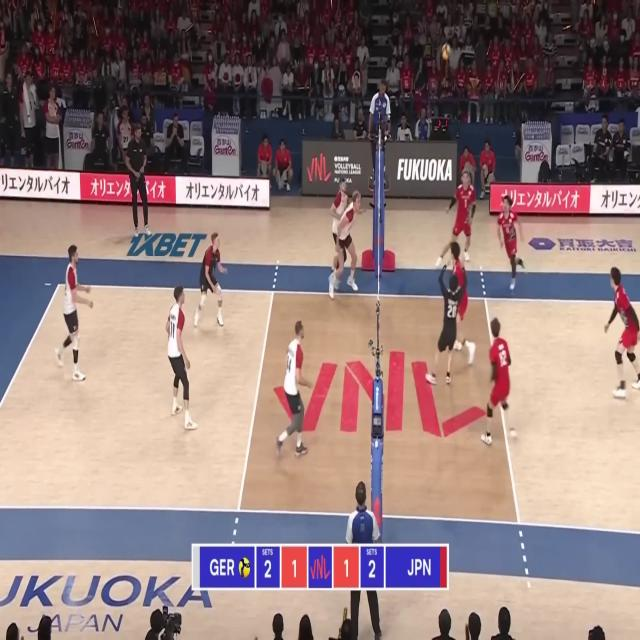referee: (345, 480, 383, 639)
team_one: (56, 243, 93, 387), (278, 320, 314, 458), (162, 285, 196, 431), (330, 192, 363, 298), (198, 232, 228, 332), (331, 179, 350, 207)
team_two: (425, 264, 469, 387), (482, 316, 520, 450), (603, 266, 640, 401), (437, 172, 476, 264), (450, 241, 476, 363), (498, 195, 524, 293)
